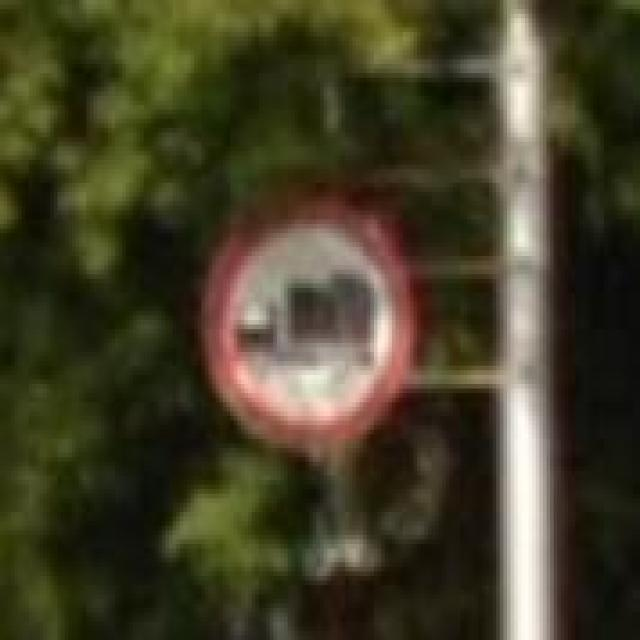truck: (202, 192, 414, 448)
